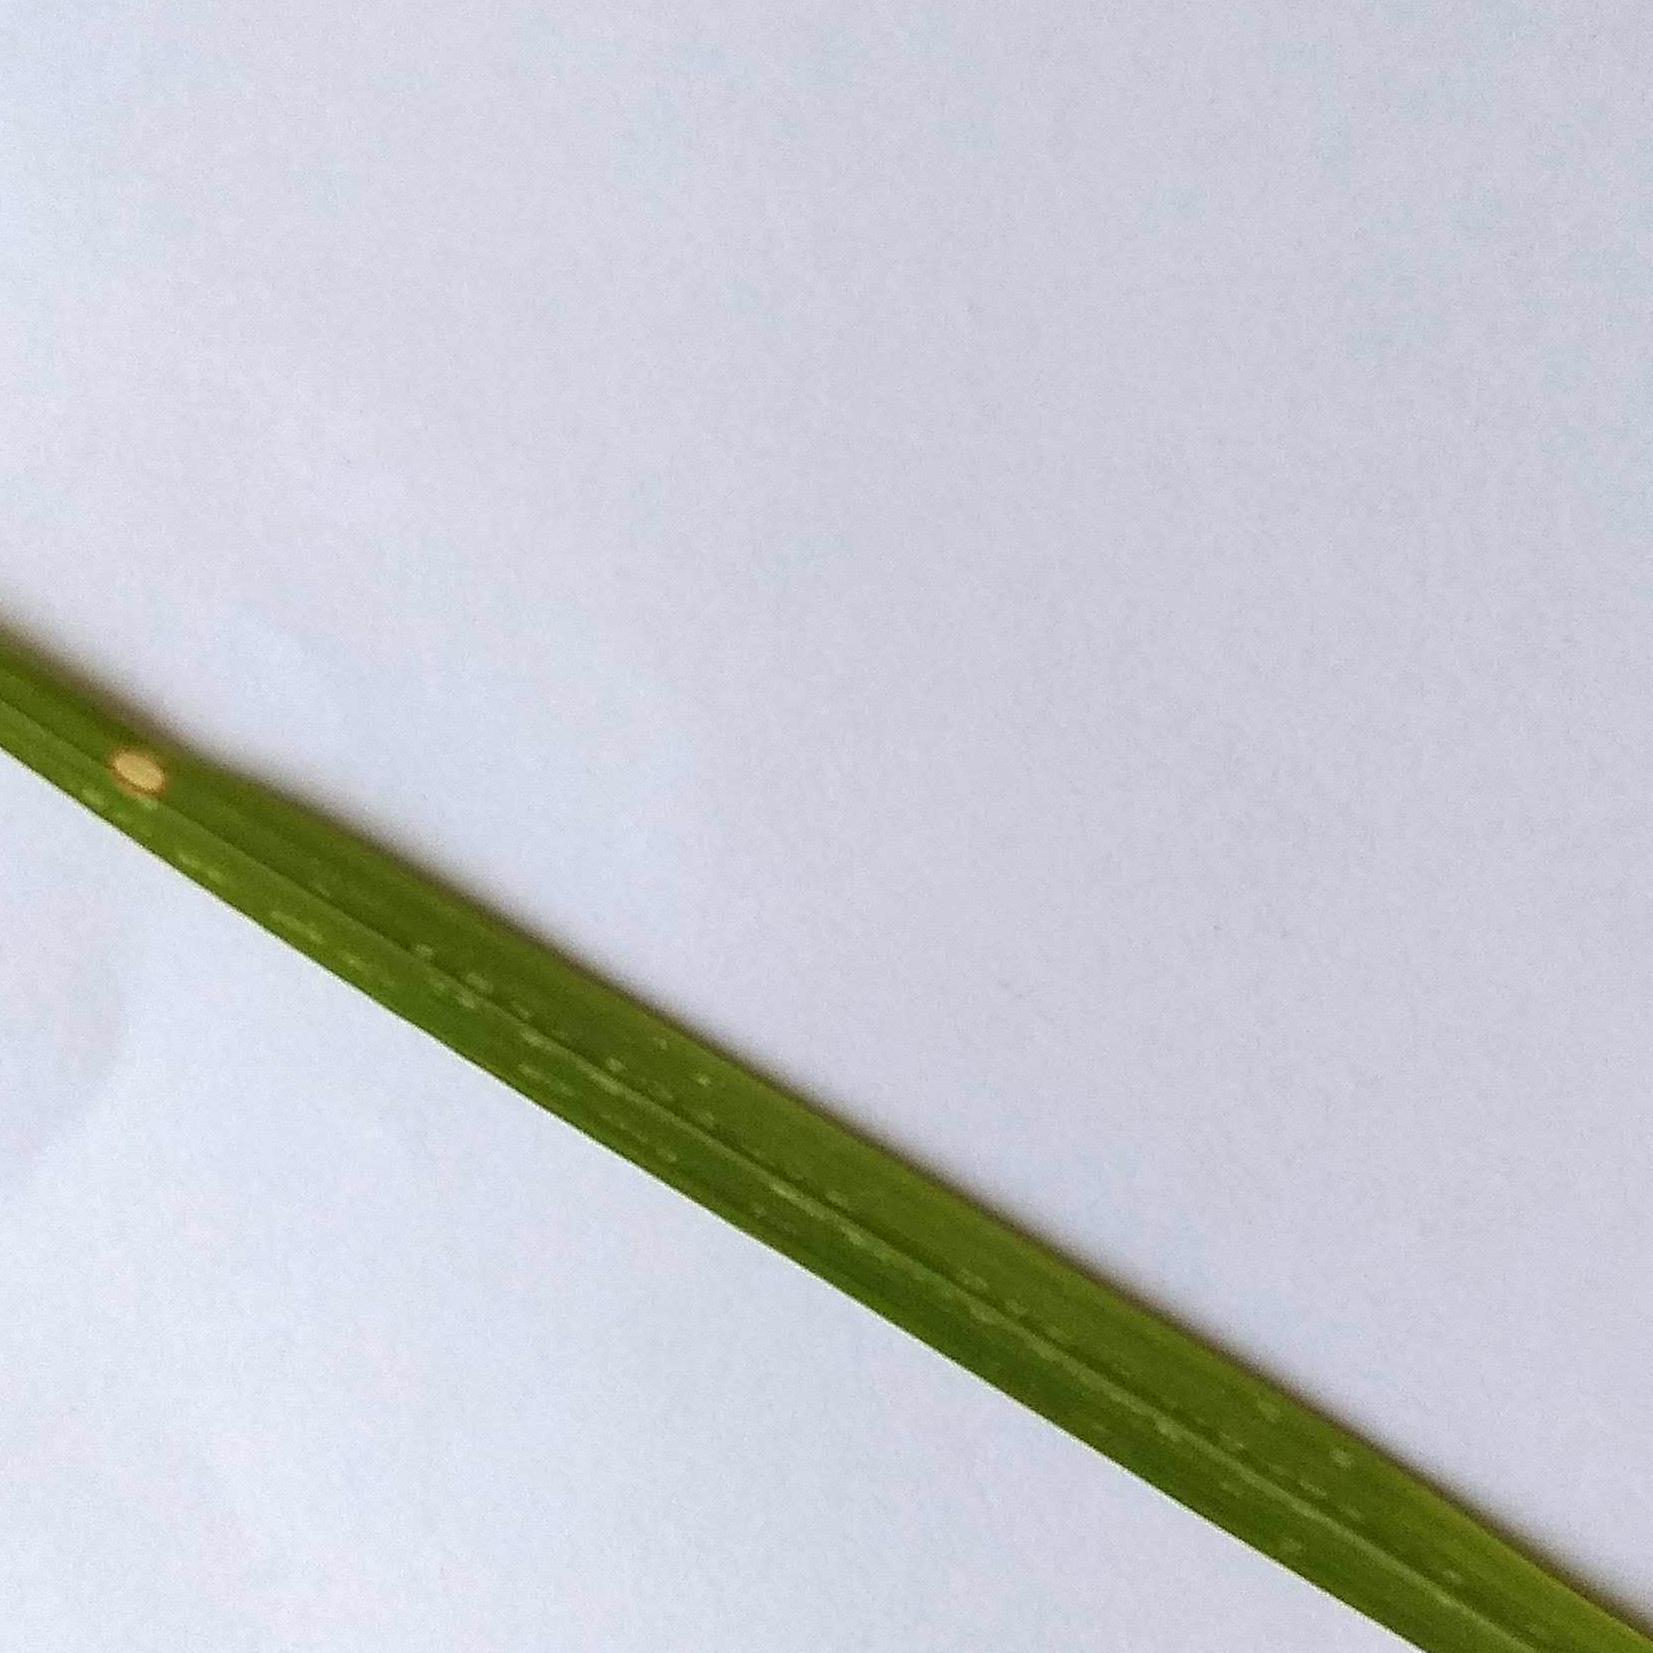1 RiceBlast: (88, 722, 168, 819)
